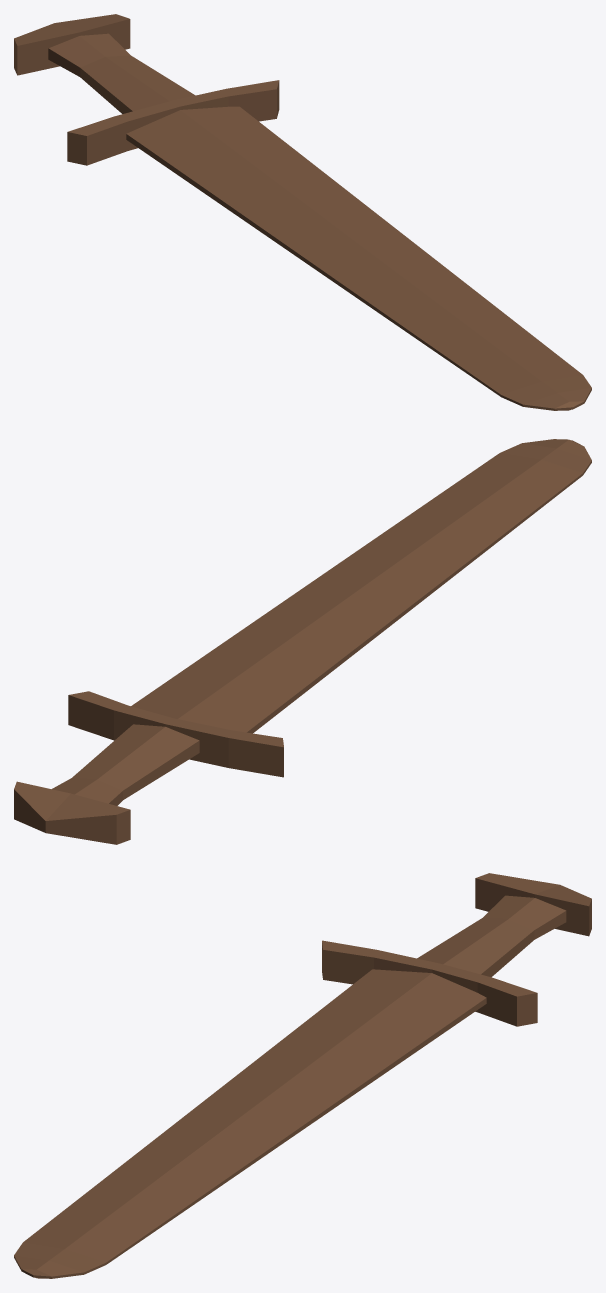
File: VikingBoy_Sword.fbx
The picture shows the model from 3 angles, top to bottom: view 1: azimuth 30°, elevation 25°; view 2: azimuth 150°, elevation 25°; view 3: azimuth 330°, elevation 25°; orthographic projection.
Parts seen in each view (by area): view 1: VikingBoy_Sword; view 2: VikingBoy_Sword; view 3: VikingBoy_Sword.
Boxes of the visible parts, box(x1,y1,x2,y2) form: VikingBoy_Sword: box(14, 14, 591, 410); VikingBoy_Sword: box(14, 439, 591, 844); VikingBoy_Sword: box(14, 873, 591, 1278).
Bounding box in the file's own units: 11.62 × 1.55 × 49.22.
